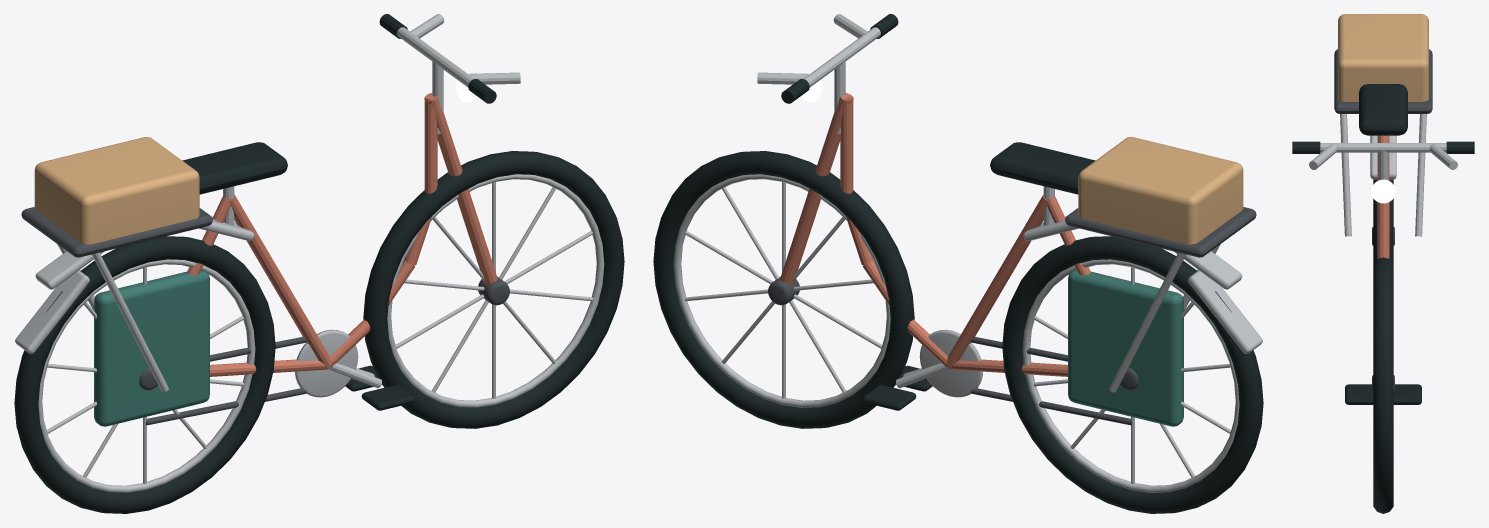
File: bike_adult_c.glb
3 renders of one model, left to right at view 1: azimuth 30°, elevation 25°; view 2: azimuth 150°, elevation 25°; view 3: azimuth 270°, elevation 25°, orthographic. The views are drawn at different scales.
Visible parts, largest first — view 1: Front wheel tyre.002, Rear wheel tyre.002, Skirt guard, Rack basket, Tint, Front wheel rim.002, Rear wheel rim.002, Saddle.002, Rear rack.001, Chainring.002, Mudguard tail.004, Rack stay.002 (+4 smaller); view 2: Front wheel tyre.002, Rear wheel tyre.002, Skirt guard, Rack basket, Tint, Front wheel rim.002, Rear wheel rim.002, Saddle.002, Rear rack.001, Chainring.002, Mudguard tail.004, Rack stay.003 (+4 smaller); view 3: Rack basket, Front wheel tyre.002, Saddle.002, Handlebar.002, Rear rack.001, Tint, Rack stay.002, Rack stay.003, Rear wheel tyre.002, Pedal.004, Pedal.005, Mudguard.014 (+6 smaller).
Part boxes in pixels (bbox=[...]): Front wheel tyre.002: bbox=[363, 151, 624, 428]; Rear wheel tyre.002: bbox=[14, 236, 275, 513]; Skirt guard: bbox=[94, 270, 209, 426]; Rack basket: bbox=[34, 137, 199, 244]; Tint: bbox=[187, 93, 497, 376]; Front wheel rim.002: bbox=[387, 174, 604, 407]; Rear wheel rim.002: bbox=[38, 259, 255, 492]; Saddle.002: bbox=[182, 142, 287, 194]; Rear rack.001: bbox=[21, 207, 212, 257]; Chainring.002: bbox=[295, 329, 358, 397]; Mudguard tail.004: bbox=[15, 270, 89, 353]; Rack stay.002: bbox=[92, 252, 168, 392]; Front wheel tyre.002: bbox=[653, 151, 914, 428]; Rear wheel tyre.002: bbox=[1002, 236, 1263, 513]; Skirt guard: bbox=[1068, 270, 1183, 426]; Rack basket: bbox=[1078, 137, 1243, 244]; Tint: bbox=[780, 93, 1090, 376]; Front wheel rim.002: bbox=[673, 174, 890, 407]; Rear wheel rim.002: bbox=[1022, 259, 1239, 492]; Saddle.002: bbox=[990, 142, 1095, 194]; Rear rack.001: bbox=[1065, 207, 1256, 257]; Chainring.002: bbox=[919, 329, 982, 397]; Mudguard tail.004: bbox=[1188, 270, 1262, 353]; Rack stay.003: bbox=[1109, 252, 1185, 392]; Rack basket: bbox=[1338, 14, 1428, 101]; Front wheel tyre.002: bbox=[1373, 257, 1393, 513]; Saddle.002: bbox=[1359, 84, 1407, 135]; Handlebar.002: bbox=[1320, 143, 1446, 152]; Rear rack.001: bbox=[1334, 49, 1432, 113]; Tint: bbox=[1377, 135, 1389, 258]; Rack stay.002: bbox=[1340, 114, 1351, 236]; Rack stay.003: bbox=[1415, 114, 1426, 236]; Rear wheel tyre.002: bbox=[1373, 179, 1393, 262]; Pedal.004: bbox=[1345, 384, 1373, 404]; Pedal.005: bbox=[1393, 384, 1421, 404]; Mudguard.014: bbox=[1370, 135, 1396, 179].
Bounding box in the file's own units: 1.74 × 1.06 × 0.52.
